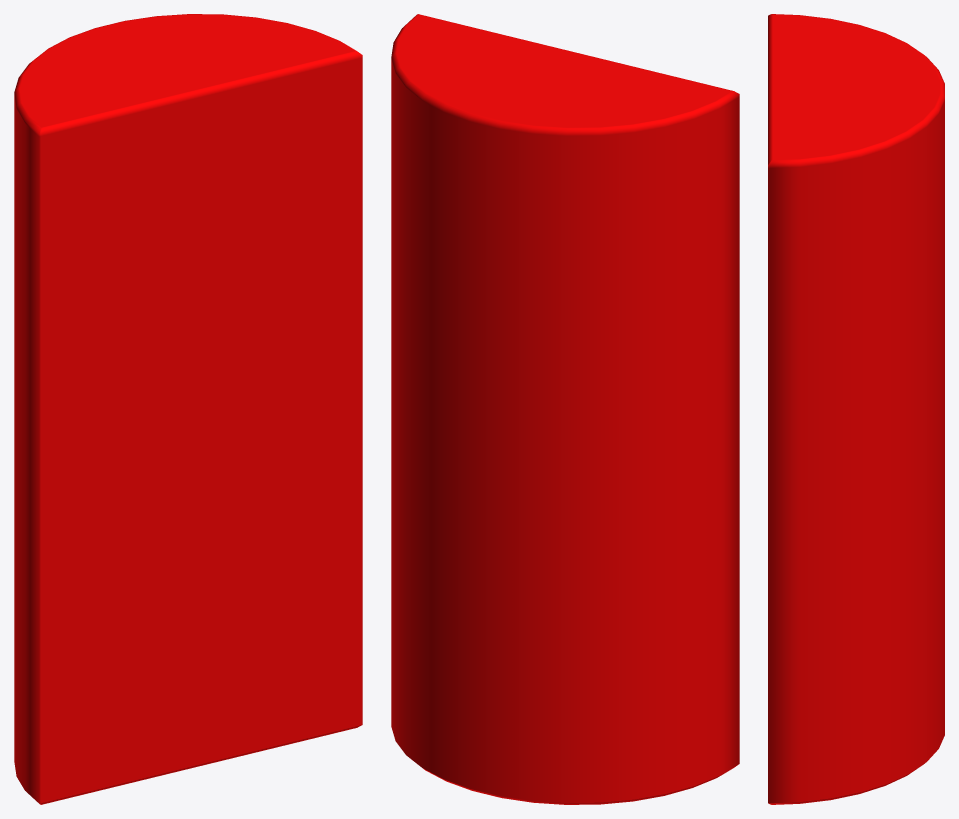
The model's file is Dungeon_HalfColumnBig.FBX.
3 renders of one model, left to right at view 1: azimuth 30°, elevation 25°; view 2: azimuth 150°, elevation 25°; view 3: azimuth 270°, elevation 25°, orthographic. The views are drawn at different scales.
Visible parts, largest first — view 1: HalfColumnBig; view 2: HalfColumnBig; view 3: HalfColumnBig.
Boxes of the visible parts, x1,y1,x2,y2 form: HalfColumnBig: [14, 14, 362, 804]; HalfColumnBig: [391, 14, 739, 804]; HalfColumnBig: [768, 14, 944, 804].
Size of the model in its own units: 250 by 500 by 124.
